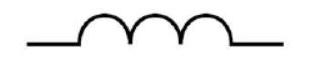inductor: (69, 6, 252, 55)
